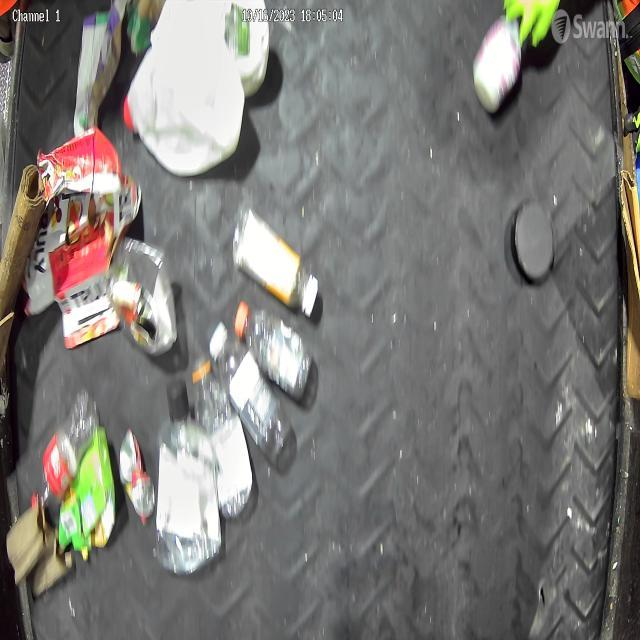can: (118, 424, 156, 520)
milk_jug: (123, 36, 245, 180), (150, 0, 271, 100)
non_white_jug: (21, 128, 142, 350)
plastic_bottle: (154, 377, 222, 576), (210, 318, 292, 462), (192, 353, 254, 520), (232, 207, 319, 318), (31, 386, 100, 512), (234, 300, 314, 402)
